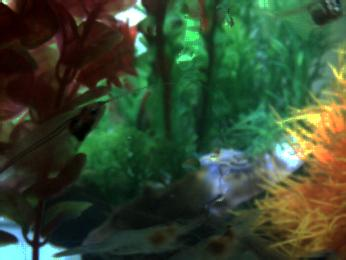X-ray fish: (259, 1, 346, 32)
glassfish: (1, 99, 109, 194)
siberian prawn: (70, 214, 208, 258), (162, 209, 260, 260)
